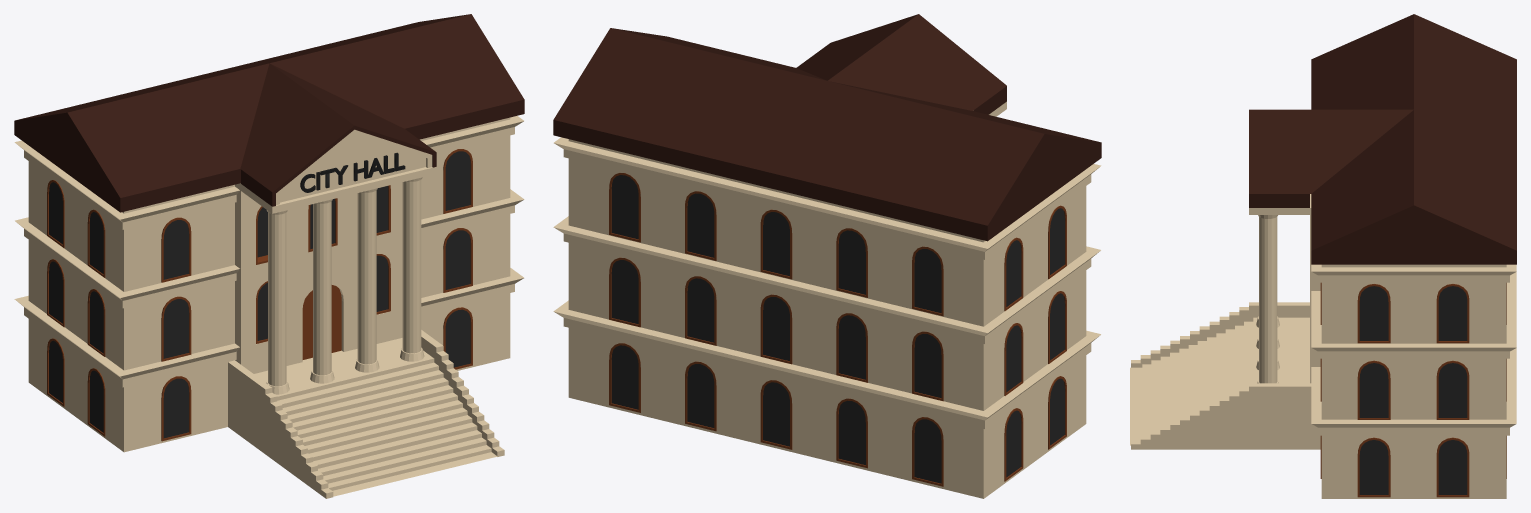
3 views of the same model, side by side, from view 1: azimuth 30°, elevation 25°; view 2: azimuth 150°, elevation 25°; view 3: azimuth 270°, elevation 25° (orthographic). The views are drawn at different scales.
Visible parts, largest first — view 1: Struttura.002; view 2: Struttura.002; view 3: Struttura.002.
Part boxes in pixels (left/top/right/bottom): Struttura.002: left=14, top=14, right=524, bottom=498; Struttura.002: left=553, top=14, right=1101, bottom=498; Struttura.002: left=1130, top=14, right=1516, bottom=498.
Bounding box in the file's own units: 1423 × 1032 × 1215.
